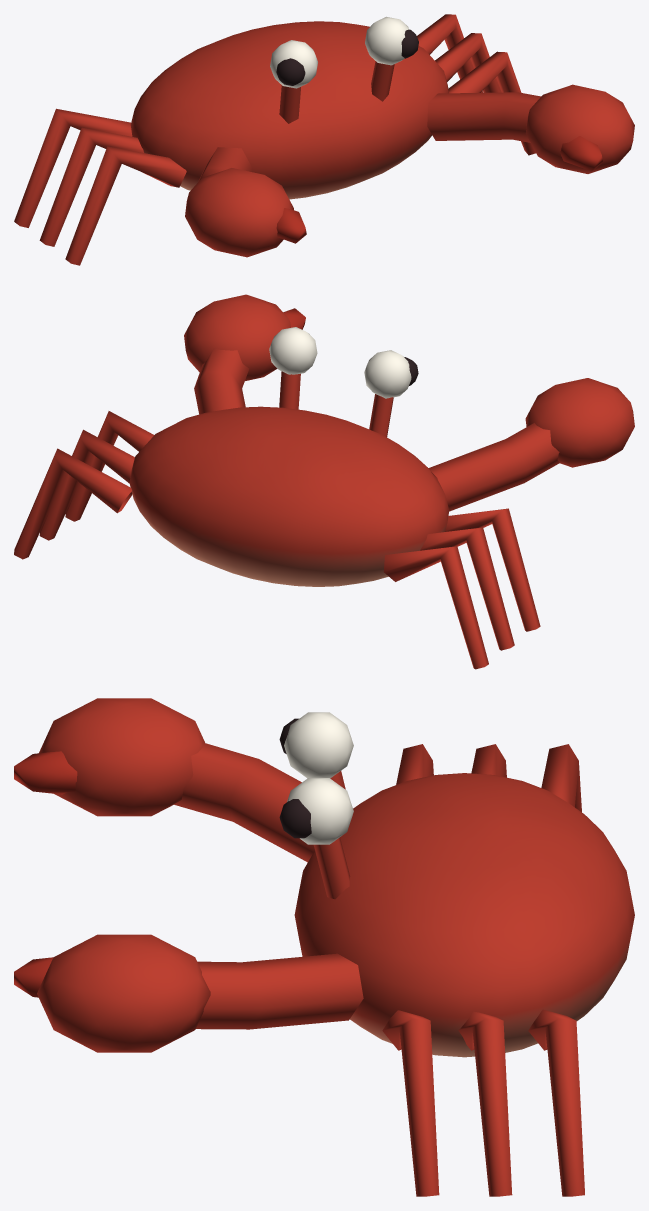
The model's file is critter_crab.glb.
3 renders of one model, top to bottom at view 1: azimuth 30°, elevation 25°; view 2: azimuth 150°, elevation 25°; view 3: azimuth 270°, elevation 25°, orthographic. The views are drawn at different scales.
Parts seen in each view (by area): view 1: crab_body, crab_eye_r, crab_eye_l; view 2: crab_body, crab_eye_l, crab_eye_r; view 3: crab_body, crab_eye_r, crab_eye_l.
Boxes of the visible parts, x1,y1,x2,y2 form: crab_body: (14,14,634,265); crab_eye_r: (365,16,418,65); crab_eye_l: (270,40,317,88); crab_body: (14,294,634,669); crab_eye_l: (364,350,418,398); crab_eye_r: (269,327,317,374); crab_body: (14,698,634,1196); crab_eye_r: (279,778,353,844); crab_eye_l: (279,712,353,778).
Size of the model in its own units: 0.3187 by 0.1331 by 0.2554.
